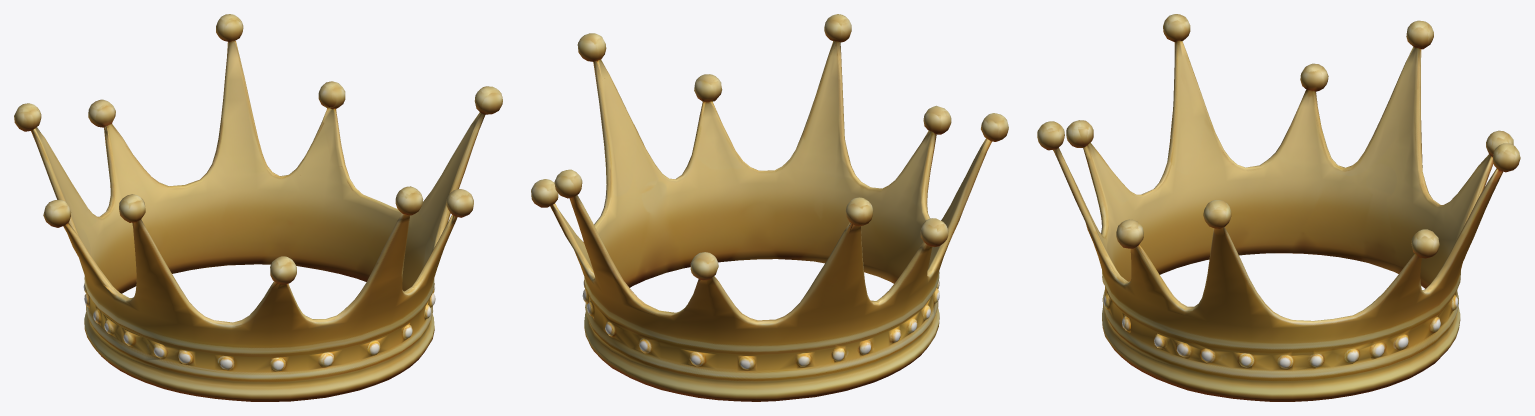
File: Crown.fbx
3 renders of one model, left to right at view 1: azimuth 30°, elevation 25°; view 2: azimuth 150°, elevation 25°; view 3: azimuth 270°, elevation 25°, orthographic. The views are drawn at different scales.
Parts seen in each view (by area): view 1: mesh_rep_0_ori_repair_quad; view 2: mesh_rep_0_ori_repair_quad; view 3: mesh_rep_0_ori_repair_quad.
Boxes of the visible parts, bbox=[...] form: mesh_rep_0_ori_repair_quad: bbox=[14, 14, 502, 401]; mesh_rep_0_ori_repair_quad: bbox=[531, 14, 1008, 401]; mesh_rep_0_ori_repair_quad: bbox=[1037, 14, 1520, 401].
Size of the model in its own units: 102 by 53.3 by 103.
Materials: 1 (1 with a texture image).
